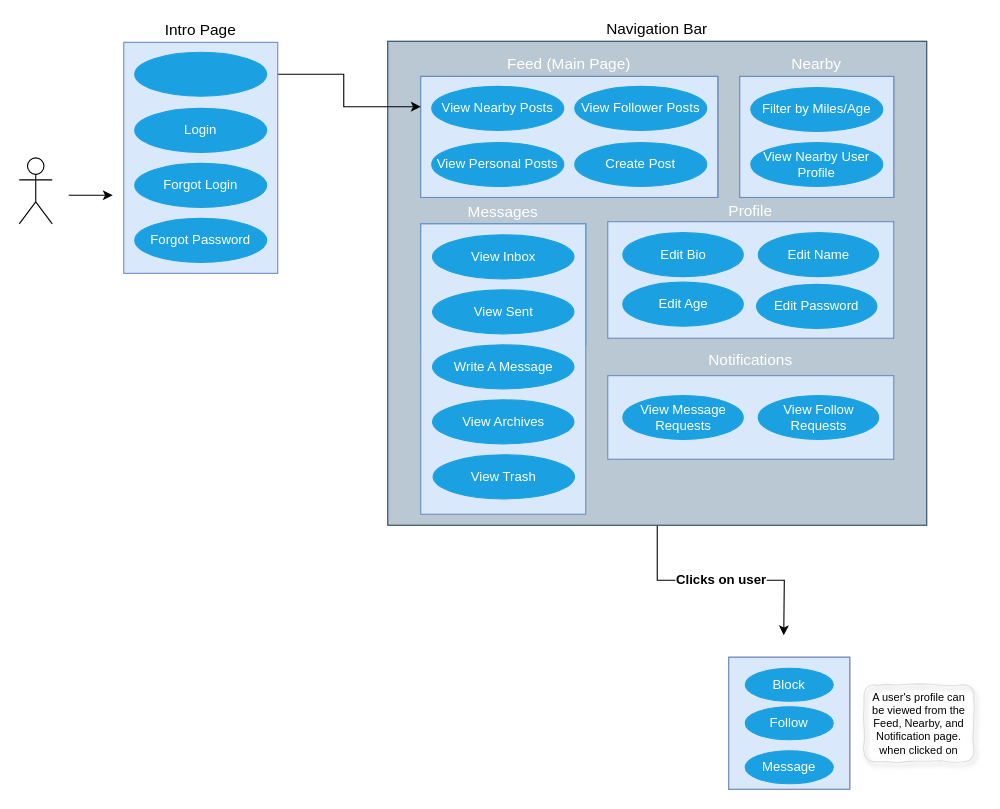
The diagram is 1000 pixels wide and 809 high, and some of its shapes have lost their labels. The centre of each missing label's shape, as x and y in pixels:
Register: (x=200, y=73)
User: (x=35, y=190)
